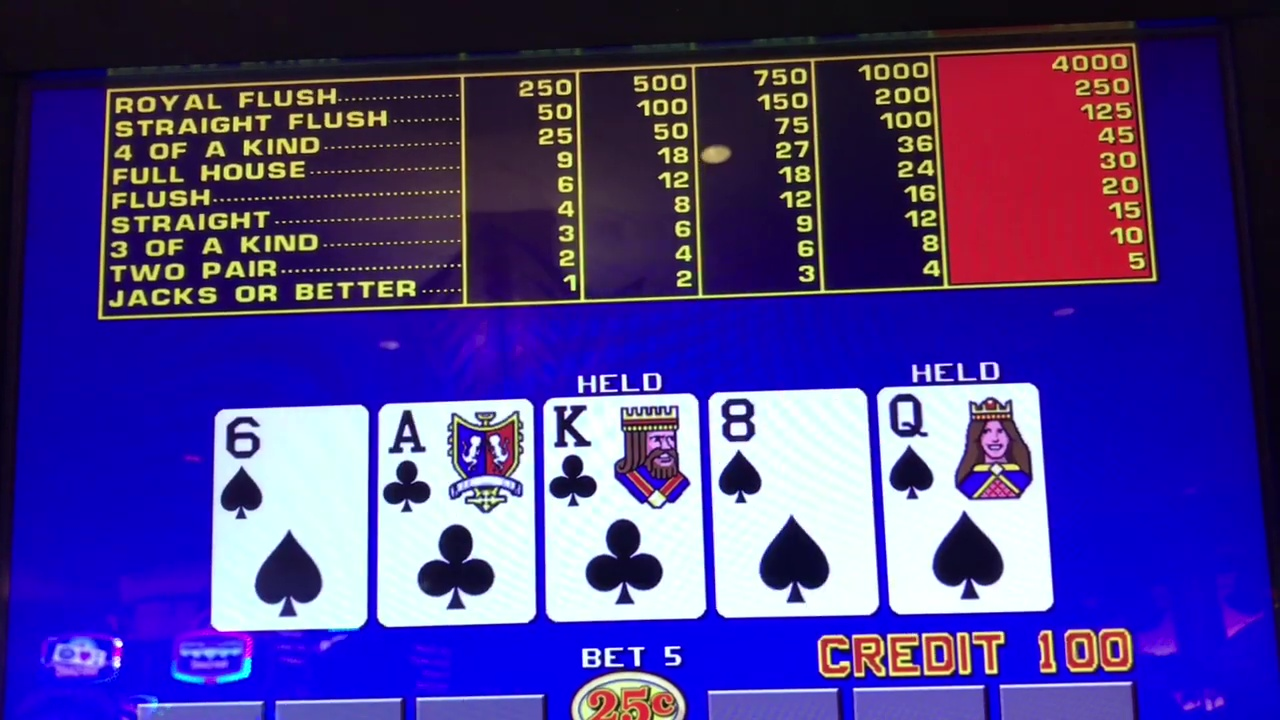CA: (384, 406, 529, 512)
CK: (551, 398, 690, 504)
S6: (219, 411, 361, 519)
S8: (722, 390, 869, 501)
SQ: (885, 390, 1040, 501)
